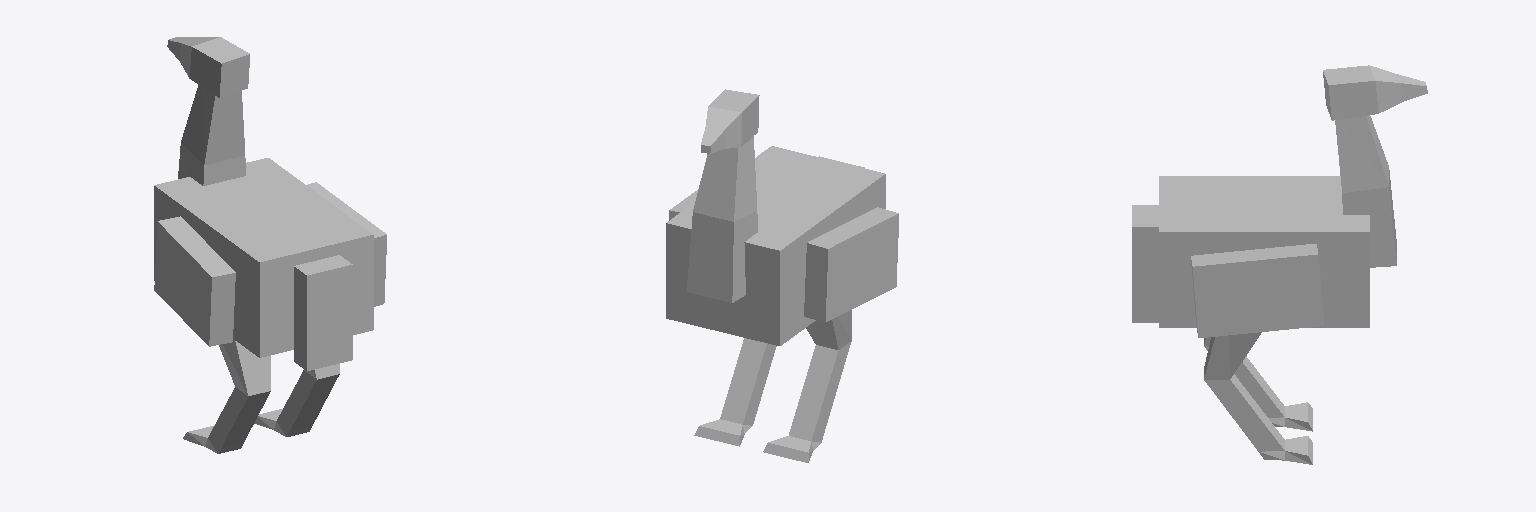
File: Ostrich_000019.obj
3 views of the same model, side by side, from view 1: azimuth 30°, elevation 25°; view 2: azimuth 150°, elevation 25°; view 3: azimuth 270°, elevation 25° (orthographic).
Parts seen in each view (by area): view 1: Cube_Cube.001; view 2: Cube_Cube.001; view 3: Cube_Cube.001.
Boxes of the visible parts, <box> form: Cube_Cube.001: <box>154,37,386,453</box>; Cube_Cube.001: <box>666,89,898,462</box>; Cube_Cube.001: <box>1132,65,1427,464</box>.
Bounding box in the file's own units: 0.7676 × 1.52 × 1.12.